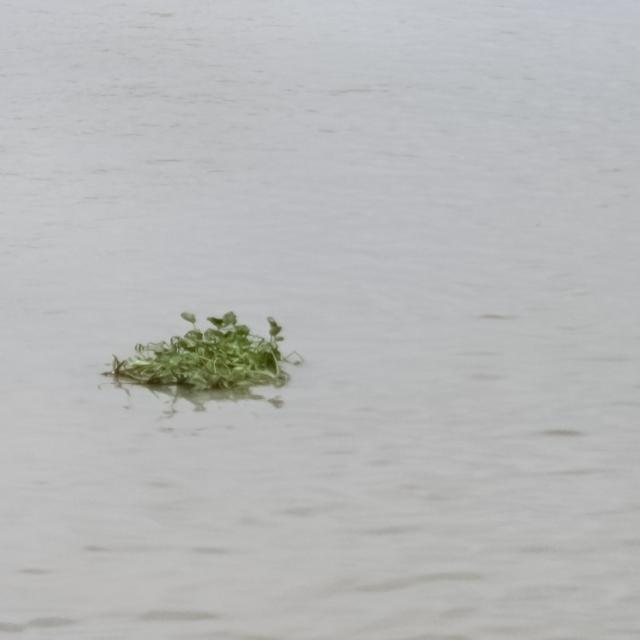Organic Debris: (92, 294, 311, 423)
